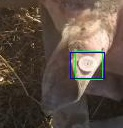text: (75, 51, 102, 79)
